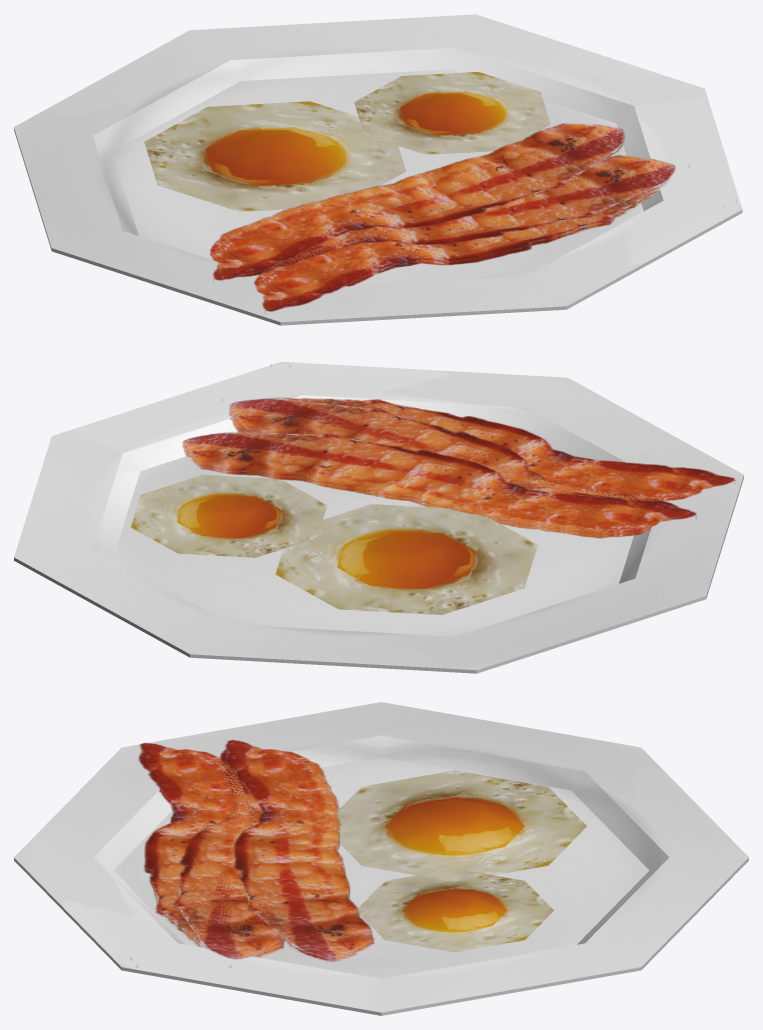
Rendered from psx_breakfast_plate.glb.
The picture shows the model from 3 angles, top to bottom: view 1: azimuth 30°, elevation 25°; view 2: azimuth 150°, elevation 25°; view 3: azimuth 270°, elevation 25°; orthographic projection. The views are drawn at different scales.
Parts seen in each view (by area): view 1: Circle, Circle.001, plate-of-bacon-png-13, Circle.002, plate-of-bacon-png-13.002, plate-of-bacon-png-13.001; view 2: Circle, plate-of-bacon-png-13, Circle.001, plate-of-bacon-png-13.002, Circle.002, plate-of-bacon-png-13.001; view 3: Circle, Circle.001, plate-of-bacon-png-13, plate-of-bacon-png-13.002, Circle.002, plate-of-bacon-png-13.001.
Part boxes in pixels (box(x1,y1,x2,y2)): Circle: box(14, 14, 742, 325); Circle.001: box(144, 101, 406, 211); plate-of-bacon-png-13: box(210, 123, 624, 279); Circle.002: box(354, 72, 550, 154); plate-of-bacon-png-13.002: box(254, 157, 670, 311); plate-of-bacon-png-13.001: box(213, 155, 675, 280); Circle: box(14, 361, 743, 673); plate-of-bacon-png-13: box(182, 431, 690, 538); Circle.001: box(275, 504, 537, 614); plate-of-bacon-png-13.002: box(229, 397, 735, 501); Circle.002: box(130, 474, 327, 557); plate-of-bacon-png-13.001: box(228, 398, 696, 533); Circle: box(14, 702, 748, 1015); Circle.001: box(337, 770, 586, 881); plate-of-bacon-png-13: box(224, 743, 374, 961); plate-of-bacon-png-13.002: box(137, 742, 282, 967); Circle.002: box(357, 869, 553, 952); plate-of-bacon-png-13.001: box(130, 739, 310, 959).
Bounding box in the file's own units: 2 × 0.0817 × 2.
3 materials, 3 textured.
